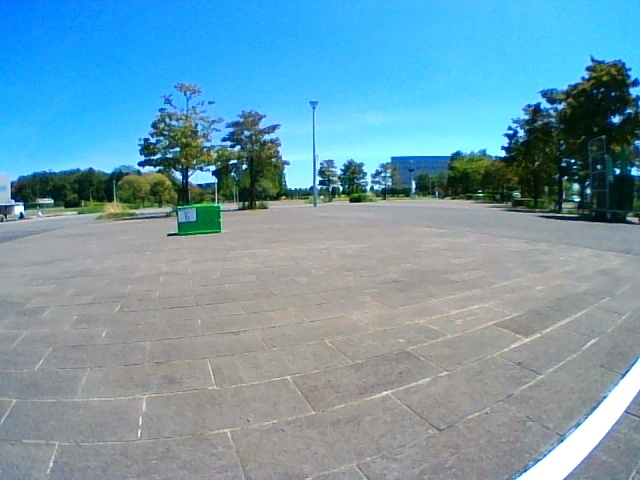green_box: (177, 204, 222, 233)
tag: (179, 209, 195, 222)
